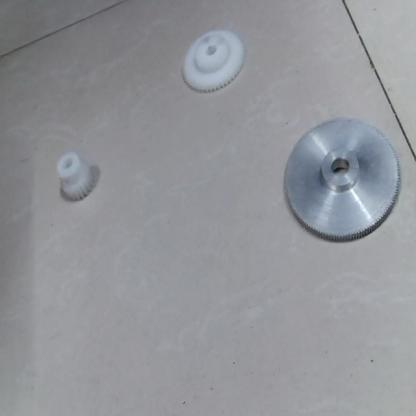FOD: (276, 119, 405, 244), (175, 25, 249, 96), (54, 148, 98, 206)
